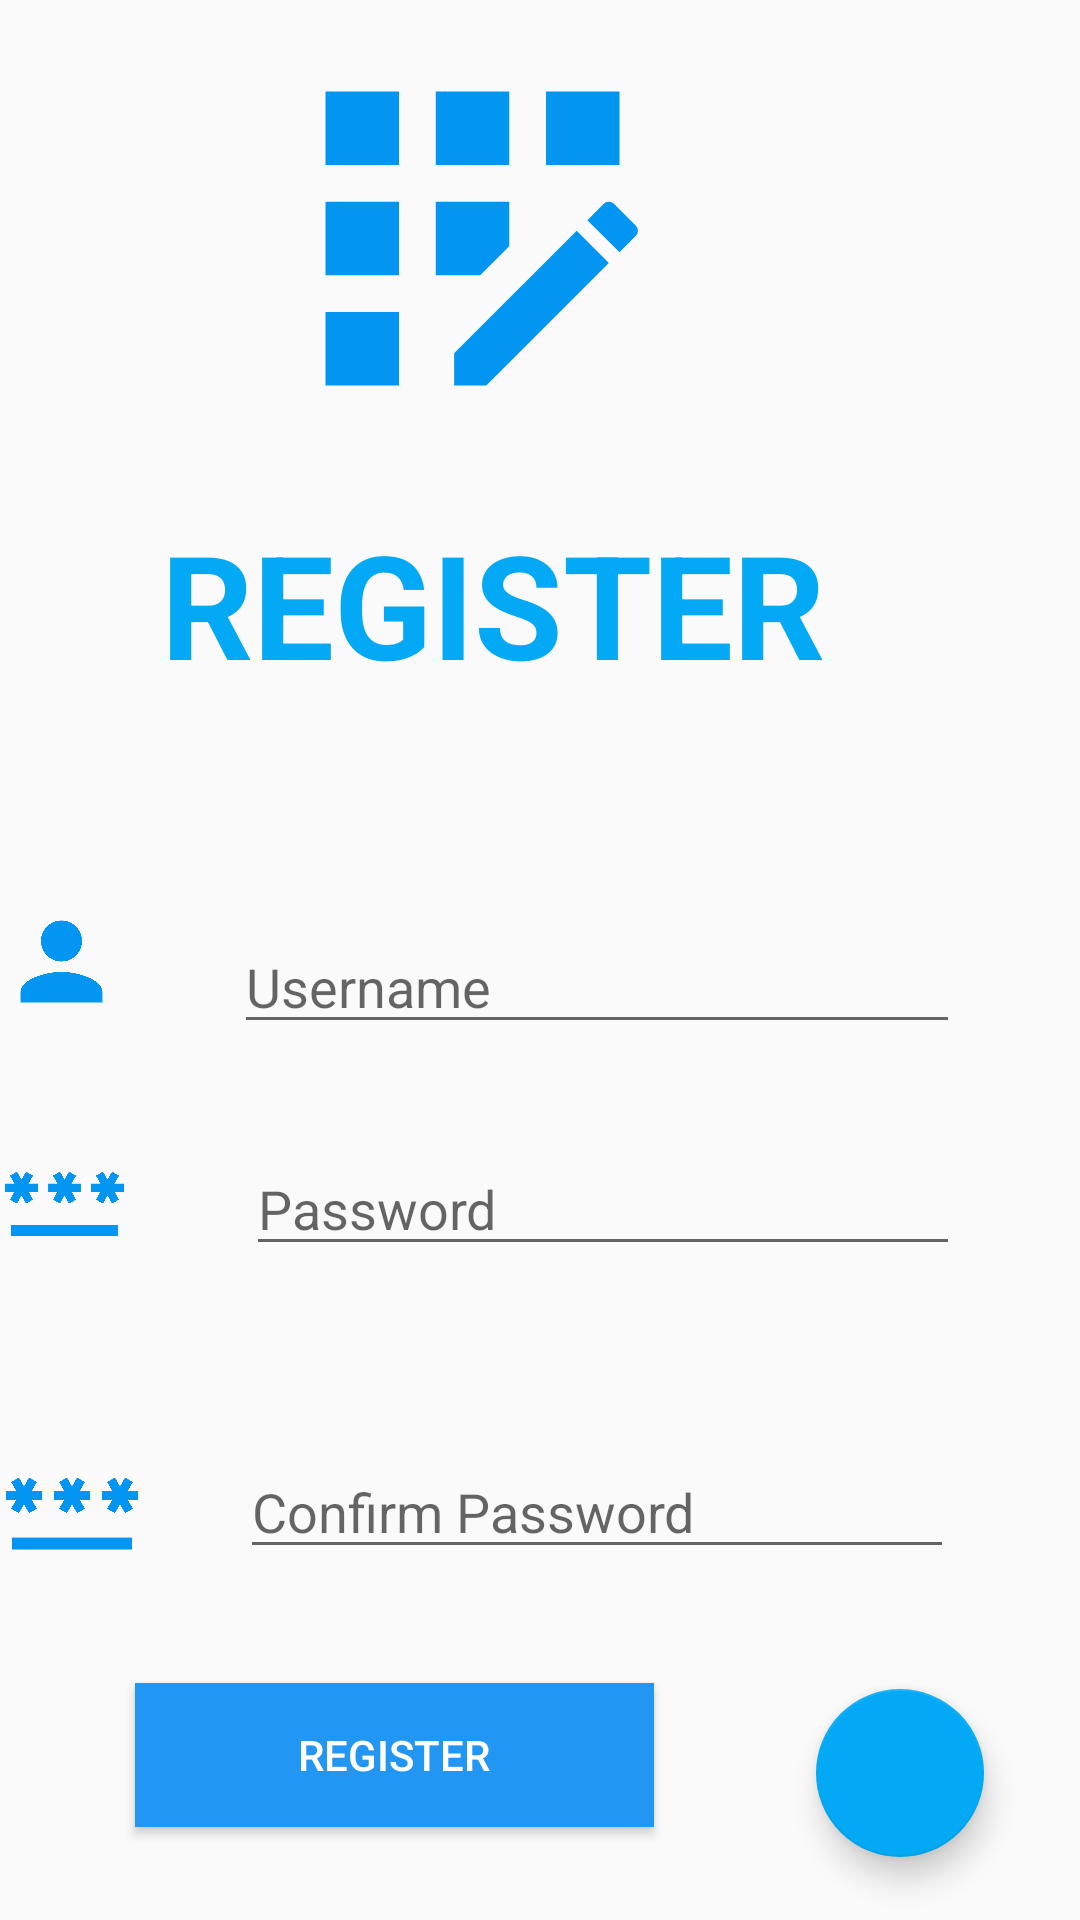

Screen size 1080x1920. Icon name, then its box in pixels as (x1, y1, x2, y2):
person: (20, 920, 103, 1003)
registration: (325, 91, 638, 386)
